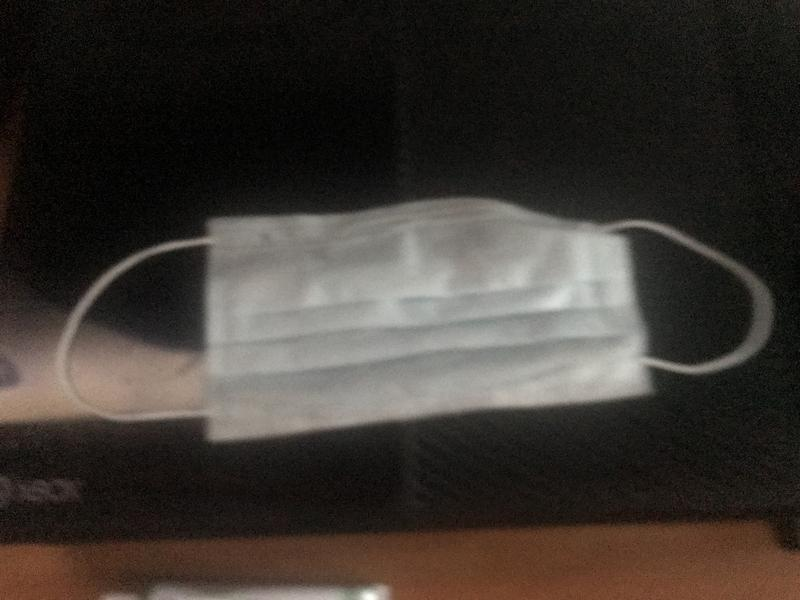medical_mask: (56, 195, 769, 428)
